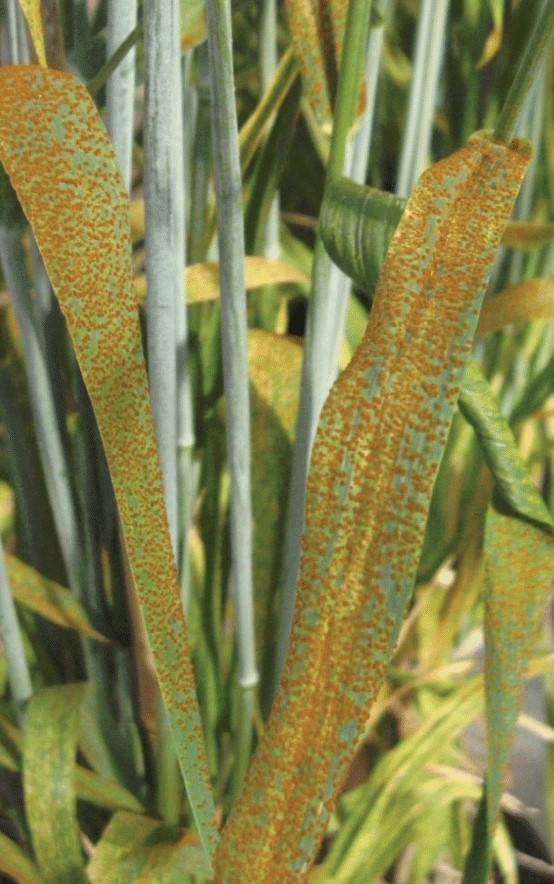Leaf Rust: (252, 165, 522, 722), (16, 73, 169, 531)
